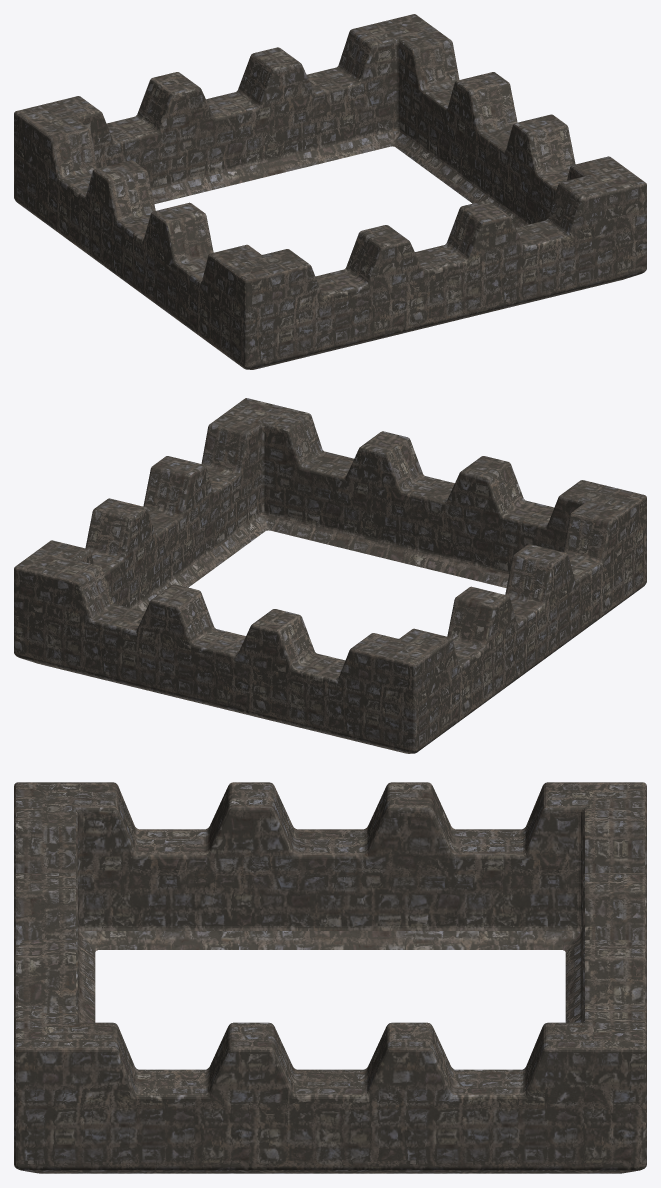
The model's file is TowerRoof_SquareTop.fbx.
The picture shows the model from 3 angles, top to bottom: view 1: azimuth 30°, elevation 25°; view 2: azimuth 150°, elevation 25°; view 3: azimuth 270°, elevation 25°; orthographic projection. The views are drawn at different scales.
Parts seen in each view (by area): view 1: Square Tower Top Block; view 2: Square Tower Top Block; view 3: Square Tower Top Block.
Boxes of the visible parts, left/top/right/bottom form: Square Tower Top Block: left=14, top=14, right=646, bottom=369; Square Tower Top Block: left=14, top=398, right=646, bottom=753; Square Tower Top Block: left=14, top=782, right=646, bottom=1173.
Bounding box in the file's own units: 644 × 151 × 644.
